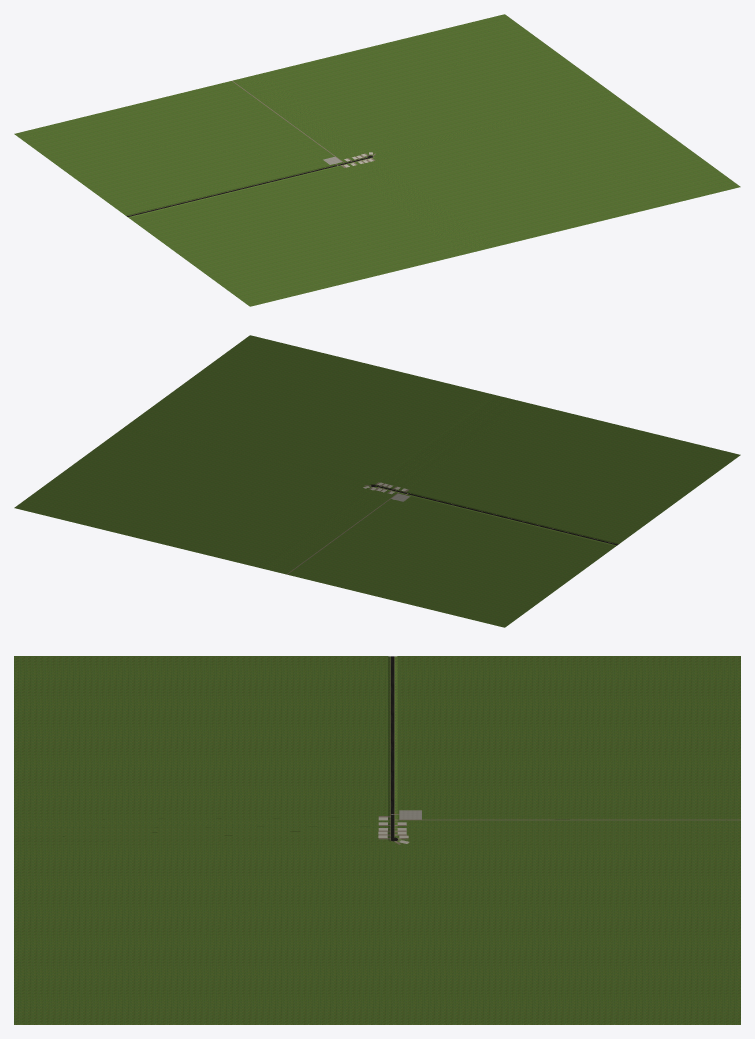
Rendered from ENVO_Suburbia.obj.
3 views of the same model, one above another, from view 1: azimuth 30°, elevation 25°; view 2: azimuth 150°, elevation 25°; view 3: azimuth 270°, elevation 25° (orthographic). The views are drawn at different scales.
Parts seen in each view (by area): view 1: suburbia; view 2: suburbia; view 3: suburbia.
Part boxes in pixels (x1,y1,x2,y2): suburbia: [14, 14, 740, 306]; suburbia: [14, 335, 740, 627]; suburbia: [14, 656, 740, 1024].
Size of what is drawn, in the model's own units: 116329 by 114 by 96944.
Materials: 8 (8 with a texture image).
